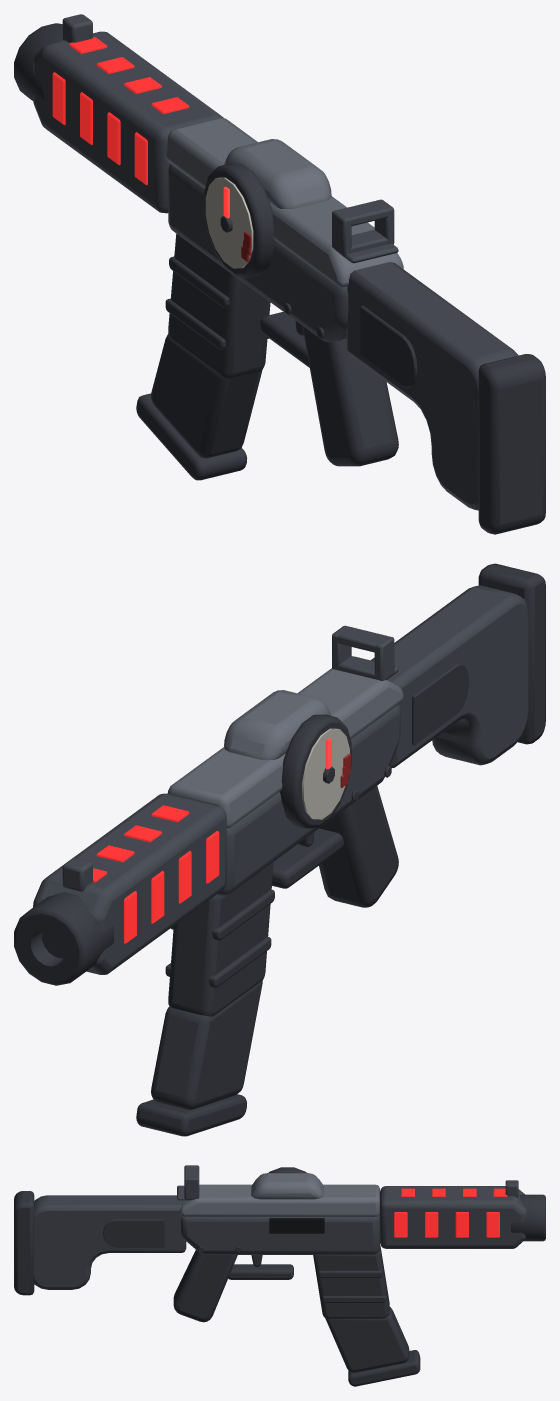
The model's file is w_redline.glb.
3 views of the same model, one above another, from view 1: azimuth 30°, elevation 25°; view 2: azimuth 150°, elevation 25°; view 3: azimuth 270°, elevation 25° (orthographic). The views are drawn at different scales.
Parts seen in each view (by area): view 1: mag_wzB, stock_wzA, guard_wzB, cover_wzA, stock_wzB, grip_wzB, body_wzB, redline_vents_wzN, sight_wzN, gauge_wzN, stock_wzN, mag_wzN (+2 smaller); view 2: mag_wzB, stock_wzA, guard_wzB, cover_wzA, grip_wzB, body_wzB, barrel_wzB, stock_wzB, redline_vents_wzN, sight_wzN, gauge_wzN, mag_wzN (+2 smaller); view 3: stock_wzA, mag_wzB, guard_wzB, cover_wzA, body_wzB, grip_wzB, stock_wzB, redline_vents_wzN, stock_wzN, barrel_wzB, mag_wzN, sight_wzN (+1 smaller).
Boxes of the visible parts, x1,y1,x2,y2 form: mag_wzB: [151, 234, 270, 458]; stock_wzA: [346, 262, 518, 510]; guard_wzB: [33, 31, 223, 213]; cover_wzA: [165, 118, 403, 287]; stock_wzB: [478, 354, 545, 534]; grip_wzB: [260, 312, 398, 466]; body_wzB: [168, 163, 348, 341]; redline_vents_wzN: [52, 37, 189, 185]; sight_wzN: [62, 14, 398, 263]; gauge_wzN: [204, 163, 324, 338]; stock_wzN: [360, 305, 417, 387]; mag_wzN: [136, 393, 247, 480]; mag_wzB: [151, 862, 274, 1109]; stock_wzA: [371, 585, 528, 767]; guard_wzB: [33, 793, 226, 974]; cover_wzA: [167, 668, 403, 828]; grip_wzB: [272, 786, 398, 907]; body_wzB: [217, 705, 400, 895]; barrel_wzB: [14, 892, 113, 985]; stock_wzB: [478, 563, 545, 744]; redline_vents_wzN: [93, 805, 219, 943]; sight_wzN: [62, 625, 398, 891]; gauge_wzN: [279, 714, 391, 828]; mag_wzN: [136, 1094, 246, 1136]; stock_wzA: [33, 1195, 186, 1289]; mag_wzB: [313, 1245, 409, 1372]; guard_wzB: [380, 1186, 526, 1248]; cover_wzA: [180, 1173, 379, 1216]; body_wzB: [180, 1213, 379, 1254]; grip_wzB: [173, 1250, 293, 1322]; stock_wzB: [14, 1191, 34, 1295]; redline_vents_wzN: [394, 1188, 507, 1237]; stock_wzN: [103, 1219, 164, 1247]; barrel_wzB: [511, 1194, 545, 1241]; mag_wzN: [348, 1350, 420, 1386]; sight_wzN: [177, 1165, 518, 1200].
Size of the model in its own units: 0.096 by 0.3746 by 0.865.
